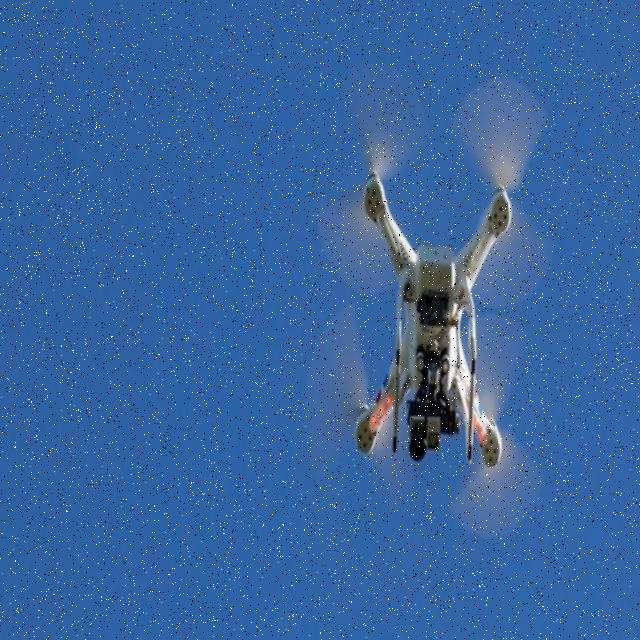UAV: (351, 171, 514, 469)
